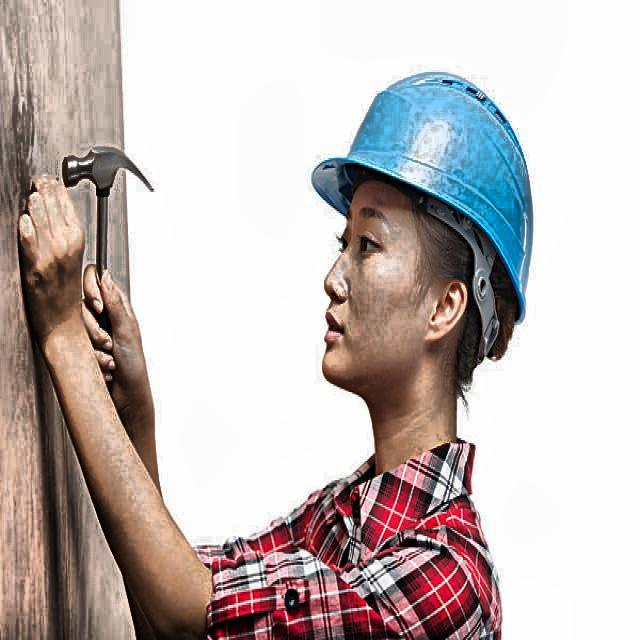person: (251, 49, 533, 640)
